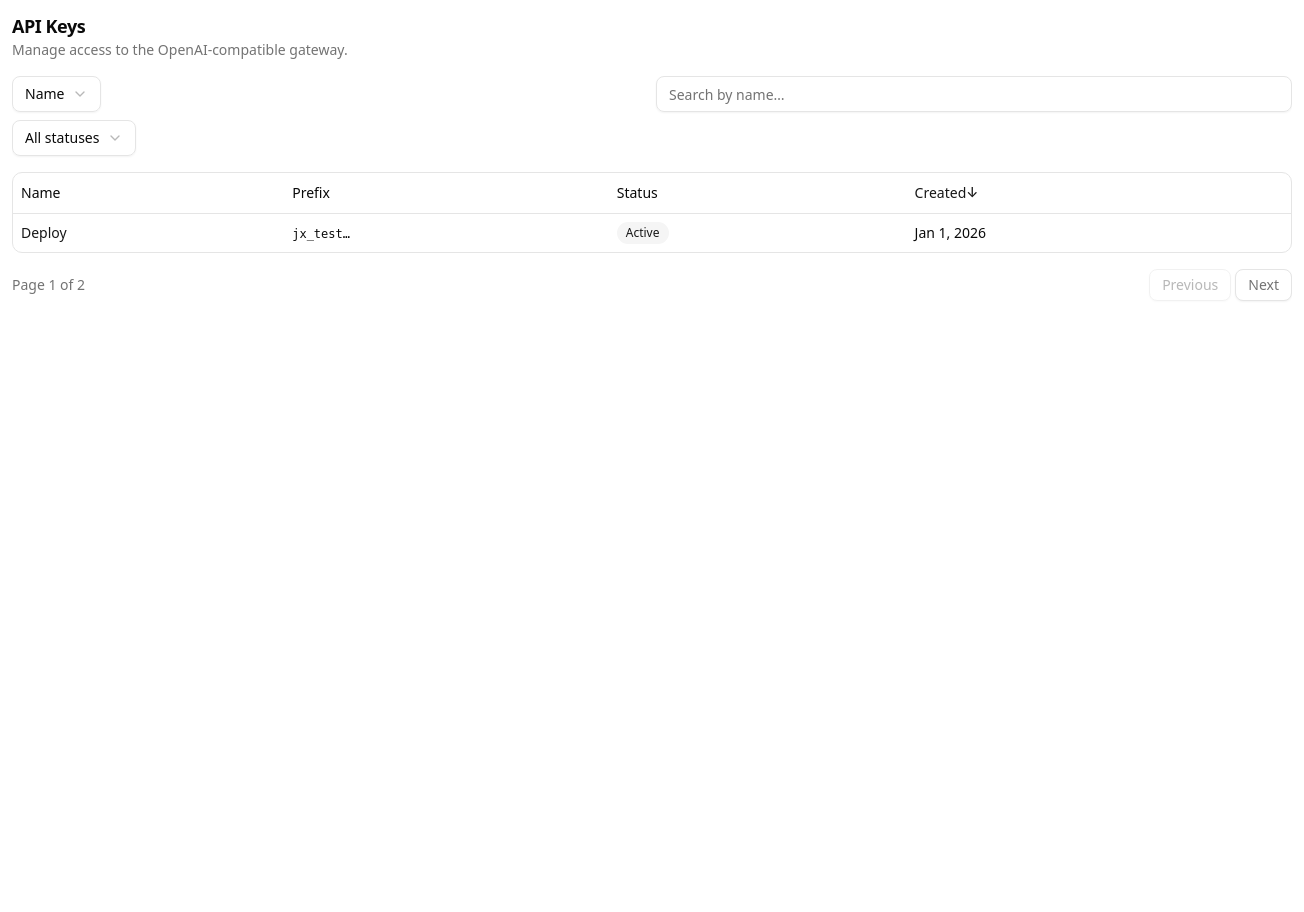
Scenario: Independent API Keys management › hides mutation actions without the manage grant
Click the button "Deploy" at (44, 232), box left=21, top=222, right=67, bottom=242
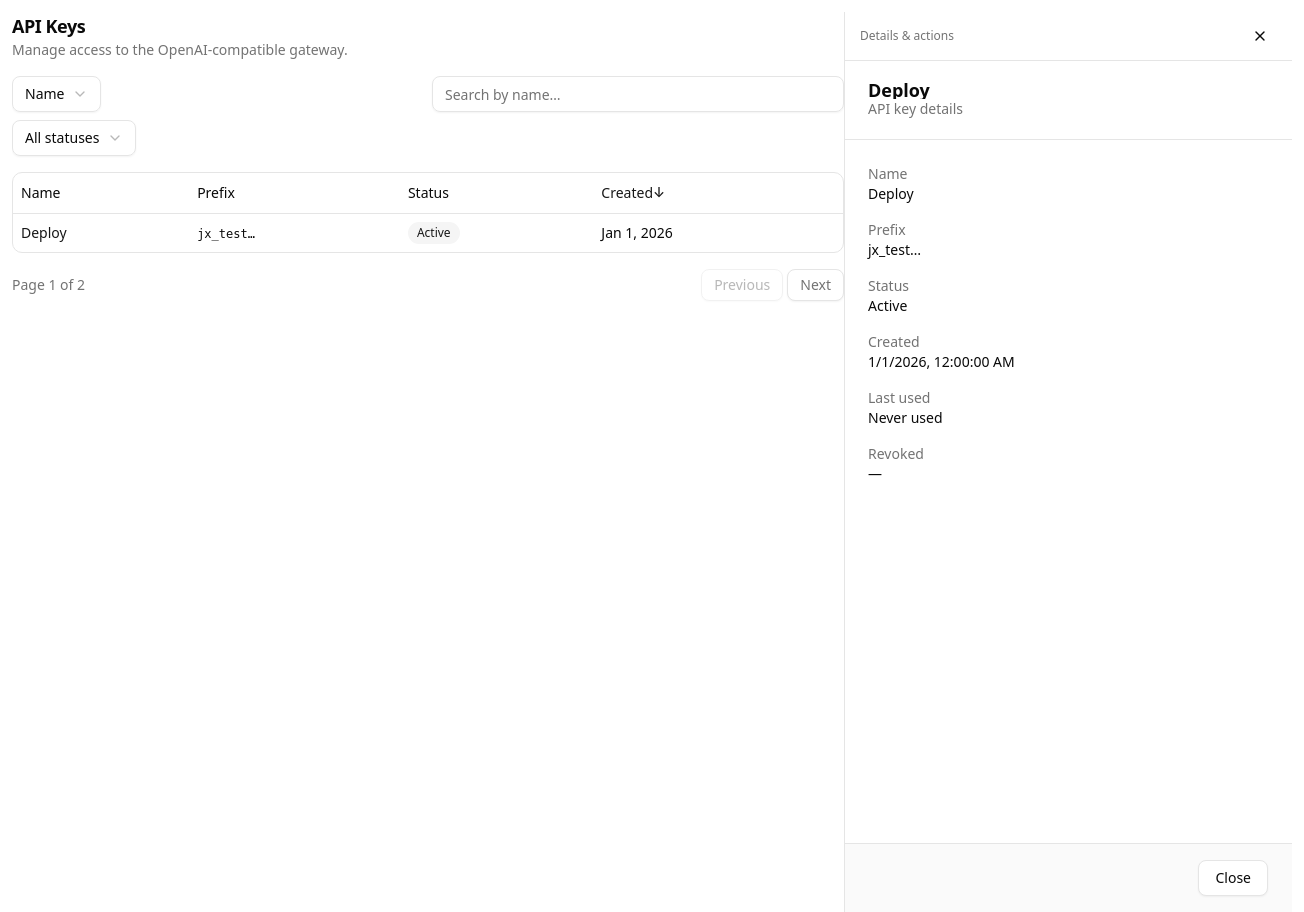
expect the text "API key details" is shown: met, box left=868, top=99, right=963, bottom=119
